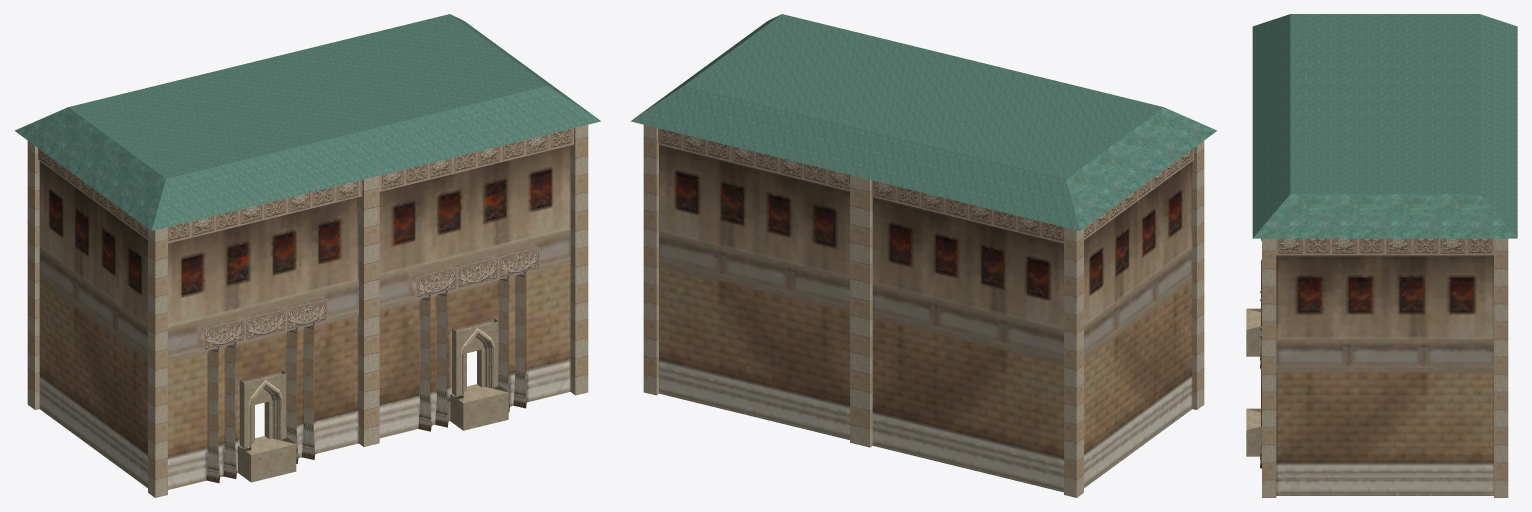
Rendered from thm_nboo_thed_imprv_building_s10_r0_mesh_l2.fbx.
3 renders of one model, left to right at view 1: azimuth 30°, elevation 25°; view 2: azimuth 150°, elevation 25°; view 3: azimuth 270°, elevation 25°, orthographic. The views are drawn at different scales.
Parts seen in each view (by area): view 1: mesh_node; view 2: mesh_node; view 3: mesh_node.
Boxes of the visible parts, x1,y1,x2,y2 form: mesh_node: [15, 14, 600, 497]; mesh_node: [631, 14, 1216, 497]; mesh_node: [1246, 14, 1517, 497].
Bounding box in the file's own units: 39.74 × 25.5 × 21.5.
